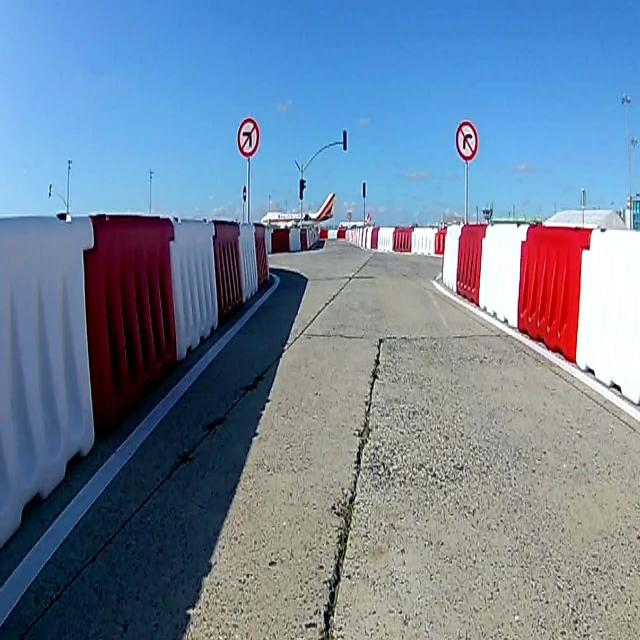sagadonulmez: (456, 120, 478, 159)
soladonulmez: (237, 118, 259, 155)
